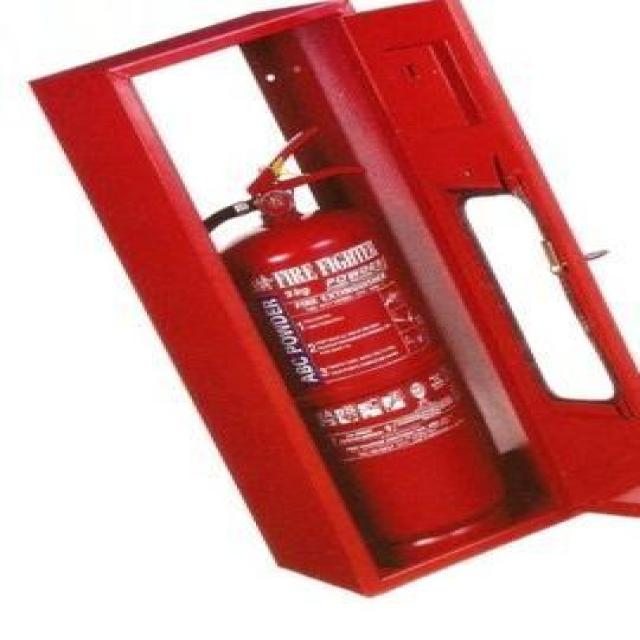fire_extinguisher: (161, 120, 529, 576)
